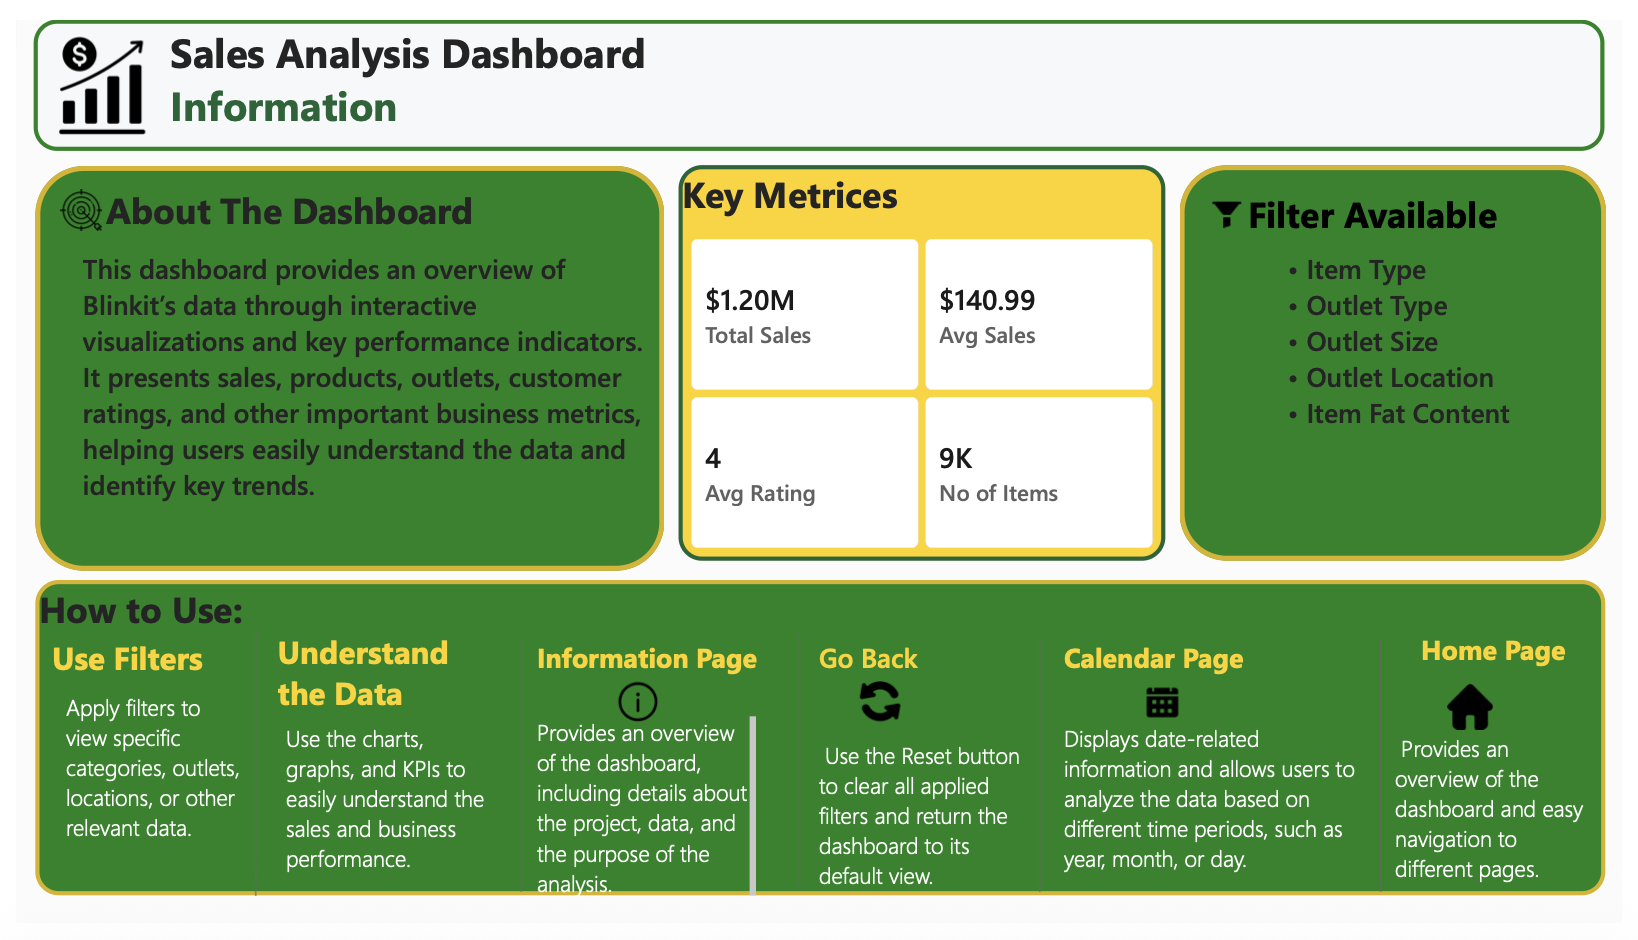

What the dashboard file says about the page in this screenshot:
{"tool":"powerbi","page":{"name":"Information","canvas":[1920,1080],"ordinal":1},"visuals":[{"type":"textbox","box":[21.5,0,1877.7,157.5],"z":0},{"type":"cardVisual","title":"      Key Metrices","fields":{"Data":["BlinkIT Grocery Data.Total Sales","BlinkIT Grocery Data.Avg Sales","BlinkIT Grocery Data.Avg Rating","BlinkIT Grocery Data.No of Items"]},"box":[792.1,174.2,582.2,472.4],"z":1000},{"type":"shape","box":[22.5,175,752.6,484.2],"z":2000},{"type":"textbox","box":[107.5,197.5,450,77.5],"z":3000},{"type":"image","box":[50,203.3,55.3,50],"z":4000},{"type":"textbox","box":[80,275,672.5,337.5],"z":5000},{"type":"shape","box":[1391,174.2,510,472.5],"z":6000},{"type":"textbox","box":[1472.5,202.5,317.5,72.5],"z":7000},{"type":"image","box":[1391,212.3,112.1,42.9],"z":8000},{"type":"textbox","title":"How to Use:","box":[23.3,670,1876.7,376.7],"z":9000},{"type":"textbox","box":[42.9,737.2,225,127.5],"z":10000},{"type":"shape","box":[210,730,152.5,317.5],"z":11000},{"type":"textbox","box":[60,802.5,207.5,235],"z":12000},{"type":"textbox","box":[312.6,730.1,270,117.5],"z":13000},{"type":"textbox","box":[322.5,840,252.5,197.5],"z":14000},{"type":"shape","box":[527.5,740,152.5,302.5],"z":15000},{"type":"textbox","box":[623.3,740,290,60],"z":16000},{"type":"textbox","box":[622.5,832.5,262.5,215],"z":17000},{"type":"shape","box":[860,735,152.5,302.5],"z":18000},{"type":"actionButton","box":[1004.5,777.8,57.3,74],"z":19000},{"type":"textbox","box":[960,740,145,60],"z":20000},{"type":"textbox","box":[960,860,245,207.5],"z":21000},{"type":"shape","box":[1147.5,740,152.5,302.5],"z":22000},{"type":"textbox","box":[1252.6,739.6,351.9,81.5],"z":23000},{"type":"shape","box":[1555,740,152.5,302.5],"z":24000},{"type":"actionButton","box":[1350.4,789.7,40.6,52.5],"z":25000},{"type":"textbox","box":[1252.6,839.8,351.7,180],"z":26000},{"type":"textbox","box":[1679.7,730.1,220,80],"z":27000},{"type":"actionButton","box":[1710.7,782.6,54.9,76.3],"z":28000},{"type":"textbox","box":[1648.7,851.8,235,185],"z":29000},{"type":"actionButton","box":[716.7,783.3,53.3,63.3],"z":30000},{"type":"textbox","box":[1495,275,337.5,265],"z":32000},{"type":"image","box":[21.5,19.1,163.3,120],"z":33000}]}

Visuals, with their boxes in screenshot pixels (x1, y1, x2, y2), scaled from the page's 1920x1080 canvas onto the 1638x940 screenshot:
textbox: [18,0,1620,137]
"      Key Metrices" cardVisual: [676,152,1172,563]
shape: [19,152,661,574]
textbox: [92,172,476,239]
image: [43,177,90,220]
textbox: [68,239,642,533]
shape: [1187,152,1622,563]
textbox: [1256,176,1527,239]
image: [1187,185,1282,222]
"How to Use:" textbox: [20,583,1621,911]
textbox: [37,642,229,753]
shape: [179,635,309,912]
textbox: [51,698,228,903]
textbox: [267,635,497,738]
textbox: [275,731,491,903]
shape: [450,644,580,907]
textbox: [532,644,779,696]
textbox: [531,725,755,912]
shape: [734,640,864,903]
actionButton: [857,677,906,741]
textbox: [819,644,943,696]
textbox: [819,749,1028,929]
shape: [979,644,1109,907]
textbox: [1069,644,1369,715]
shape: [1327,644,1457,907]
actionButton: [1152,687,1187,733]
textbox: [1069,731,1369,888]
textbox: [1433,635,1621,705]
actionButton: [1459,681,1506,748]
textbox: [1407,741,1607,902]
actionButton: [611,682,657,737]
textbox: [1275,239,1563,470]
image: [18,17,158,121]
